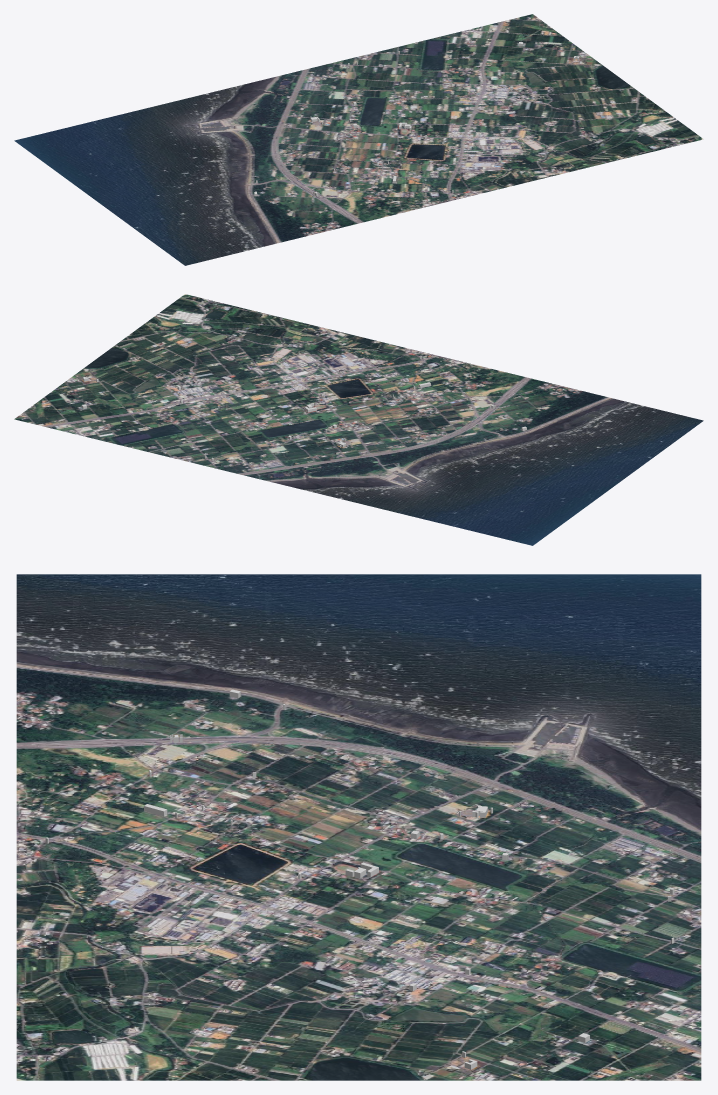
The model's file is poto.glb.
3 renders of one model, top to bottom at view 1: azimuth 30°, elevation 25°; view 2: azimuth 150°, elevation 25°; view 3: azimuth 270°, elevation 25°, orthographic. The views are drawn at different scales.
Parts seen in each view (by area): view 1: EXPORT_GOOGLE_SAT_WM, Areas:building; view 2: EXPORT_GOOGLE_SAT_WM, Areas:building; view 3: EXPORT_GOOGLE_SAT_WM, Areas:building.
Boxes of the visible parts, x1,y1,x2,y2 form: EXPORT_GOOGLE_SAT_WM: (14, 14, 703, 265); Areas:building: (254, 42, 579, 196); EXPORT_GOOGLE_SAT_WM: (14, 294, 703, 545); Areas:building: (81, 356, 526, 460); EXPORT_GOOGLE_SAT_WM: (16, 574, 701, 1080); Areas:building: (45, 689, 674, 1069).
Bounding box in the file's own units: 4280 × 20 × 2446.
Materials: 1 (1 with a texture image).
